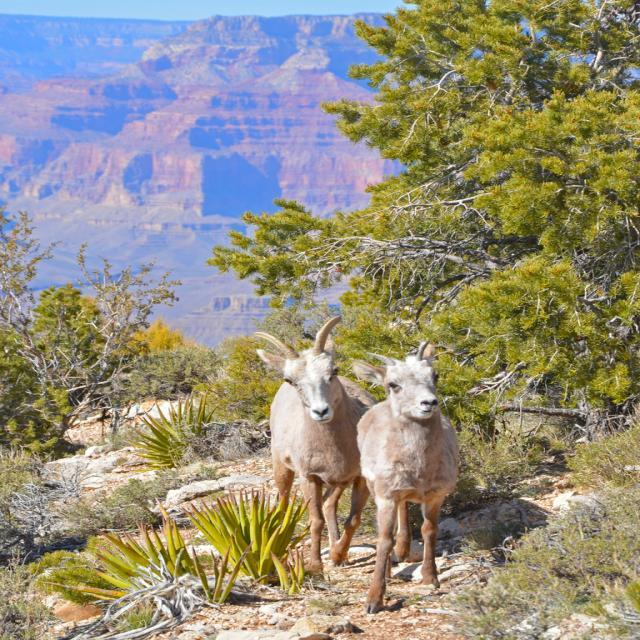Goat: (252, 315, 378, 577), (349, 339, 461, 613)
